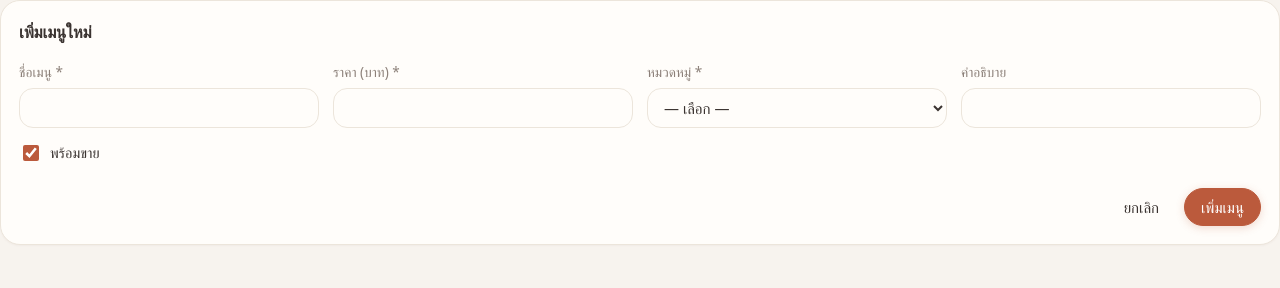
Test: MenuForm › ข้อมูลไม่ครบ → แสดง error และไม่เรียก onSubmit
Click the button "เพิ่มเมนู". click: coordinates (1222, 207)
box: [1184,188,1261,226]
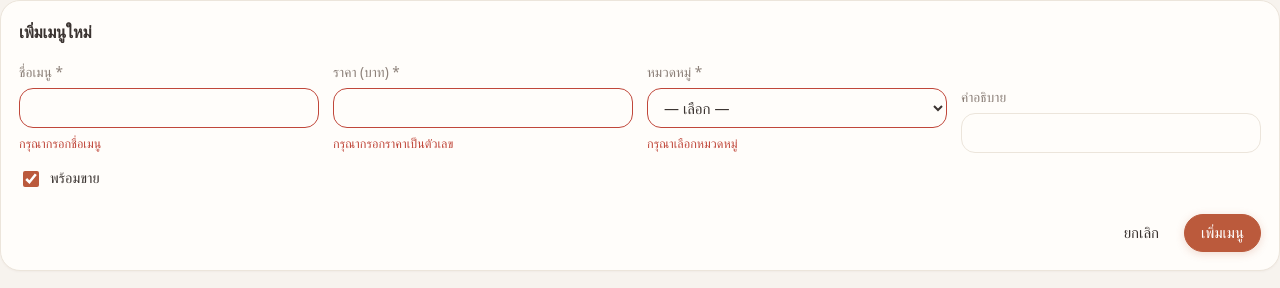
Expected: the text "กรุณากรอกชื่อเมนู" is shown, [19,135,101,152]
Expected: the text "กรุณาเลือกหมวดหมู่" is shown, [647,135,738,152]
